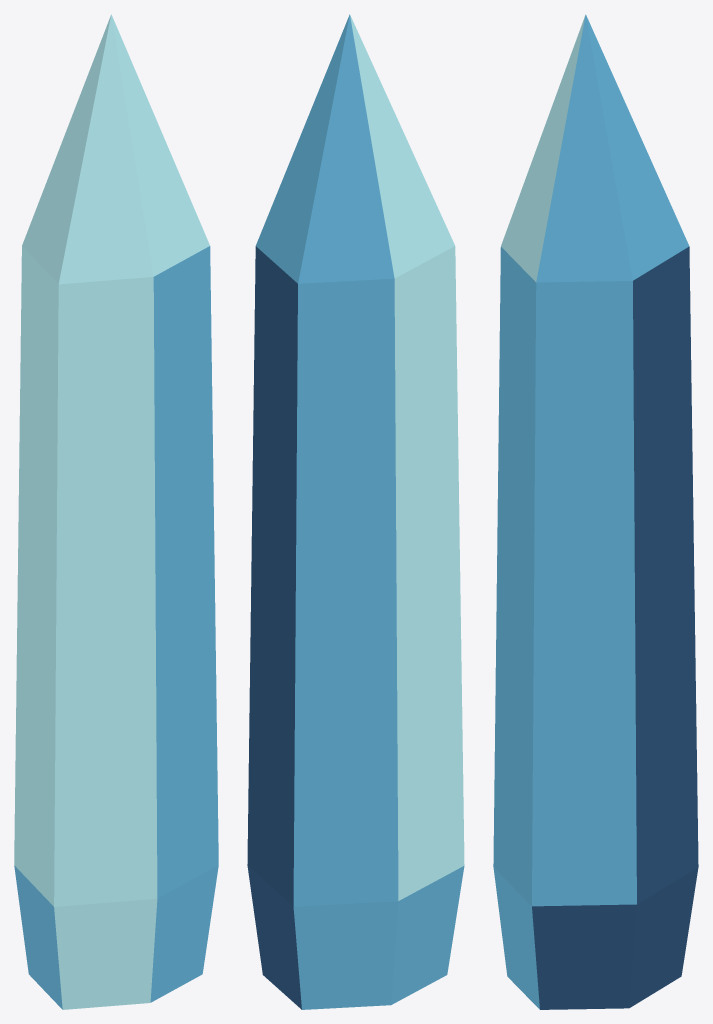
The model's file is ice_spike.glb.
3 views of the same model, side by side, from view 1: azimuth 30°, elevation 25°; view 2: azimuth 150°, elevation 25°; view 3: azimuth 270°, elevation 25° (orthographic).
Parts seen in each view (by area): view 1: ice_spike; view 2: ice_spike; view 3: ice_spike.
Boxes of the visible parts, x1=… form: ice_spike: x1=14, y1=14, x2=218, y2=1009; ice_spike: x1=247, y1=14, x2=464, y2=1009; ice_spike: x1=493, y1=14, x2=698, y2=1009.
Size of the model in its own units: 0.5262 by 2.96 by 0.56.
